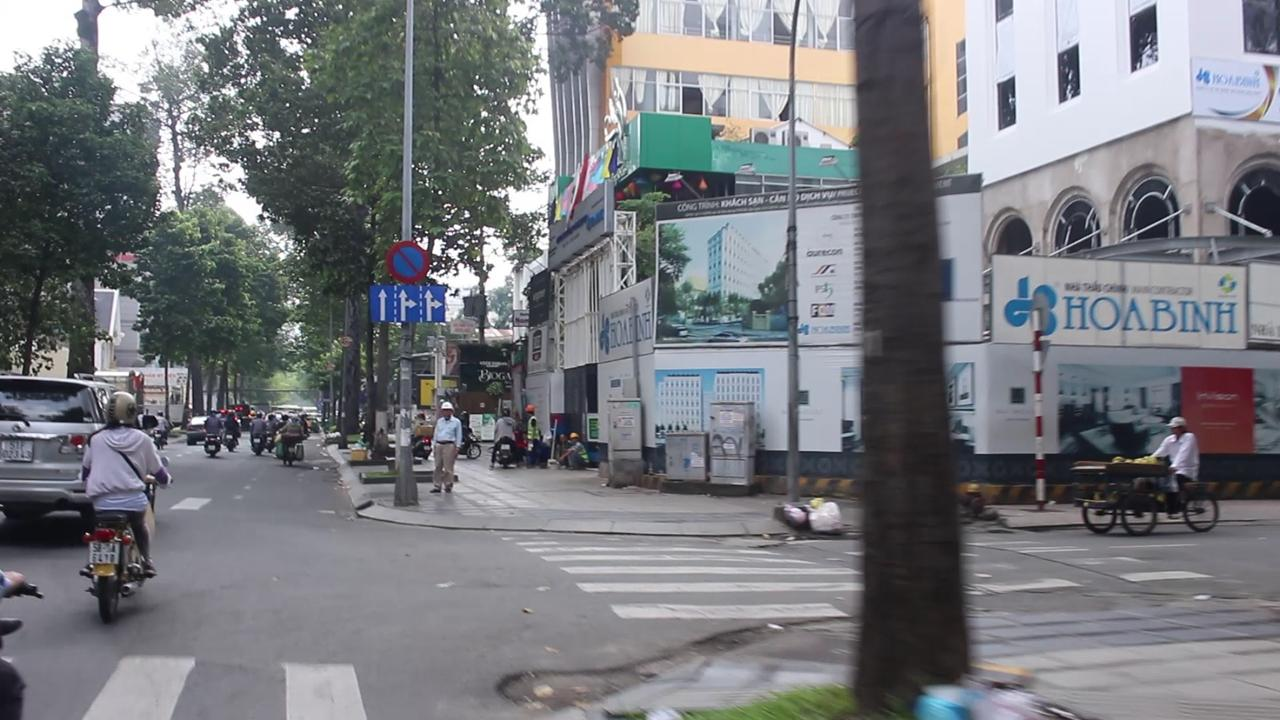P.102: (386, 241, 428, 282)
P.124c: (370, 283, 394, 323)
